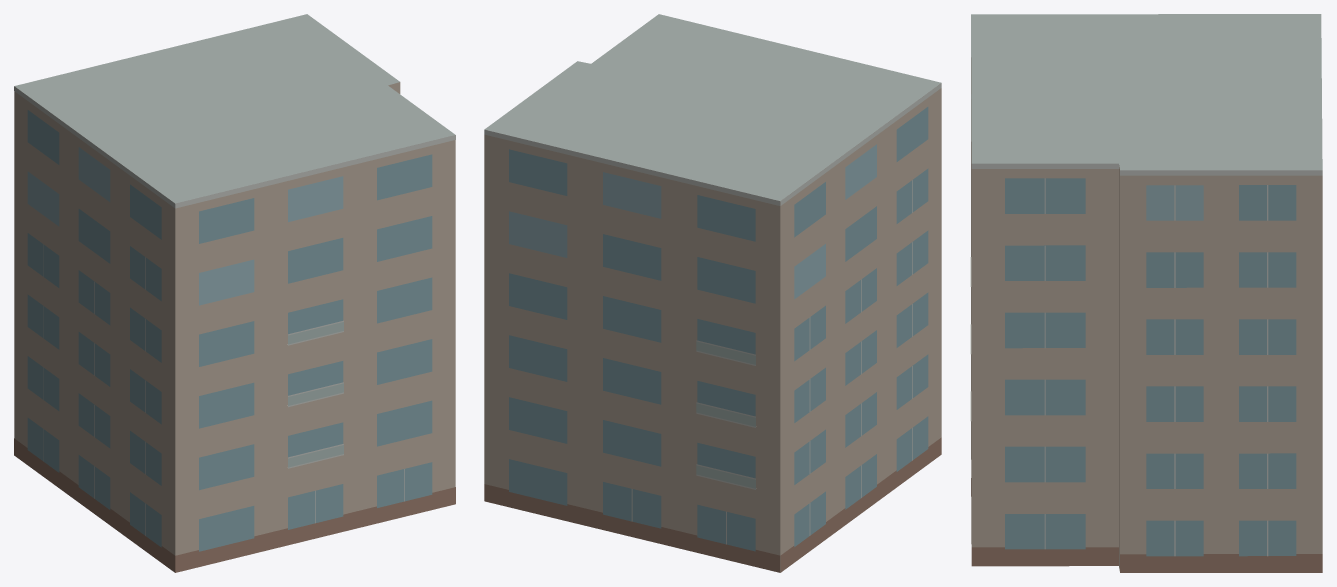
File: survey-upis-32978058.glb
3 renders of one model, left to right at view 1: azimuth 30°, elevation 25°; view 2: azimuth 150°, elevation 25°; view 3: azimuth 270°, elevation 25°, orthographic. The views are drawn at different scales.
Parts seen in each view (by area): view 1: survey-upis-32978058.tmp; view 2: survey-upis-32978058.tmp; view 3: survey-upis-32978058.tmp.
Boxes of the visible parts, box(x1,y1,x2,y2) form: survey-upis-32978058.tmp: box(14, 14, 455, 572); survey-upis-32978058.tmp: box(484, 14, 941, 572); survey-upis-32978058.tmp: box(970, 14, 1322, 572).
Bounding box in the file's own units: 15.25 × 18.3 × 14.52.
